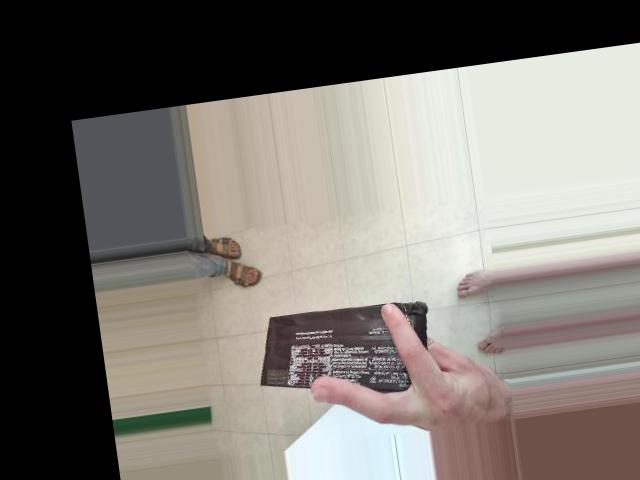chocolate: (268, 204, 399, 399)
